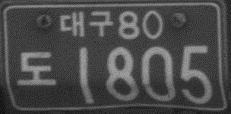0: (142, 46, 175, 103), (142, 10, 163, 40)
1: (76, 45, 96, 105)
5: (179, 44, 214, 105)
8: (103, 45, 138, 102), (116, 10, 141, 40)
대구_O: (58, 10, 113, 39)
도: (17, 49, 57, 88)
